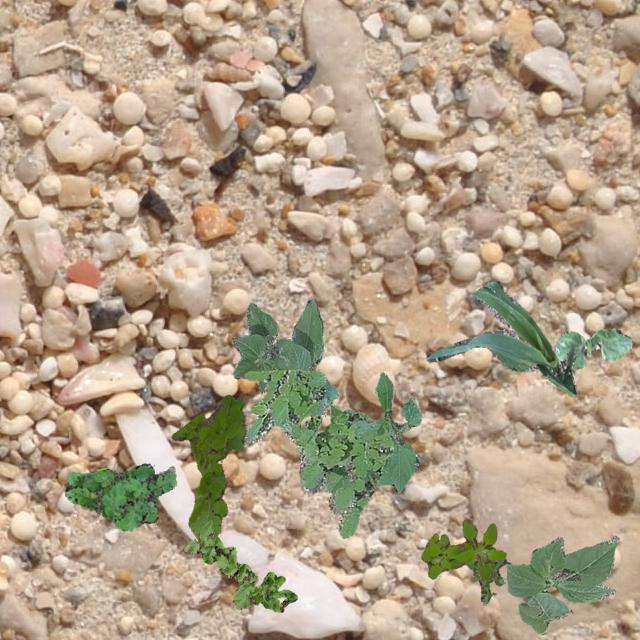crop: (426, 280, 576, 396), (230, 298, 338, 417), (322, 372, 421, 492), (506, 534, 618, 634), (554, 327, 632, 368)
weed: (244, 368, 392, 536), (170, 394, 246, 540), (182, 518, 296, 612), (64, 462, 175, 530), (420, 518, 504, 580), (466, 558, 506, 602)
